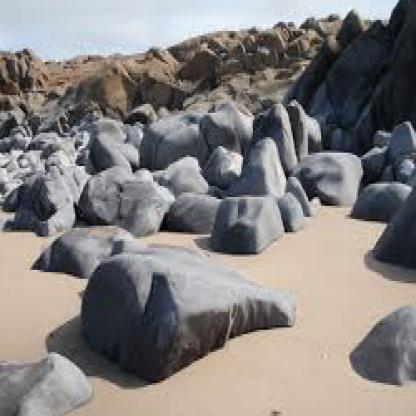Metamorphic_Quartize: (85, 242, 294, 368), (331, 281, 415, 412), (2, 338, 93, 414), (210, 184, 290, 243), (17, 168, 76, 228), (112, 173, 172, 228)
